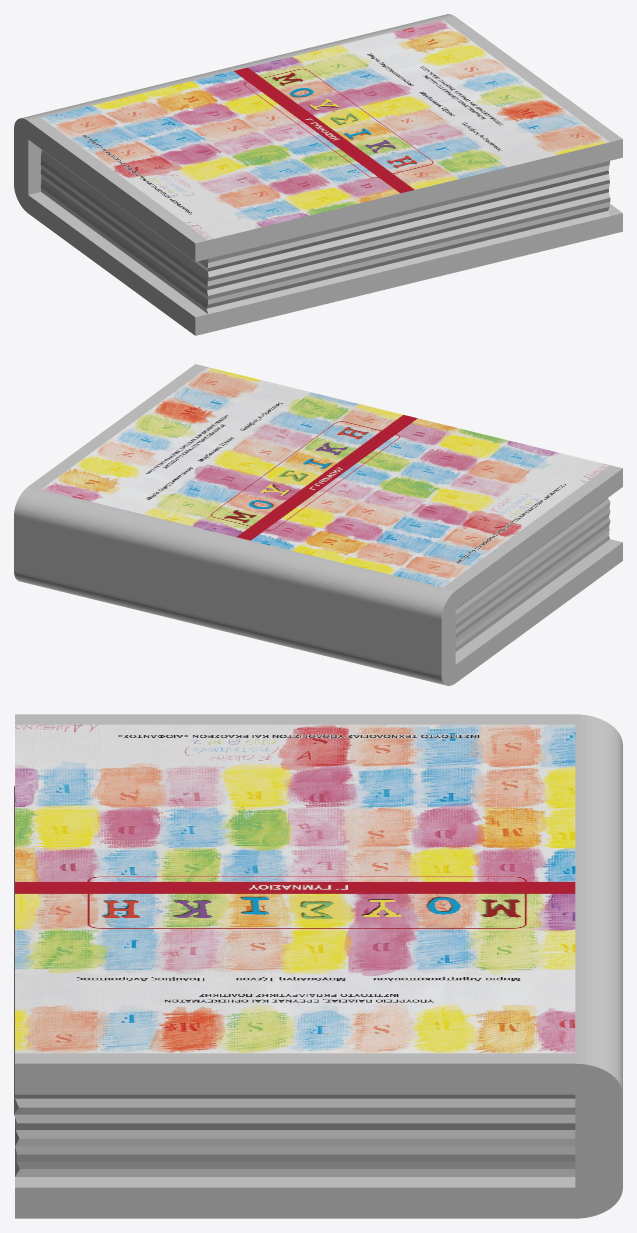
The model's file is book7.obj.
3 views of the same model, one above another, from view 1: azimuth 30°, elevation 25°; view 2: azimuth 150°, elevation 25°; view 3: azimuth 270°, elevation 25° (orthographic). The views are drawn at different scales.
Visible parts, largest first — view 1: Cube_3, Cube_1, Cube_2; view 2: Cube_3, Cube_1, Cube_2; view 3: Cube_3, Cube_1, Cube_2.
Boxes of the visible parts, x1=… form: Cube_3: x1=41, y1=20, x2=609, y2=240; Cube_1: x1=14, y1=14, x2=622, y2=335; Cube_2: x1=40, y1=150, x2=610, y2=314; Cube_3: x1=41, y1=367, x2=609, y2=587; Cube_1: x1=14, y1=364, x2=622, y2=685; Cube_2: x1=455, y1=498, x2=610, y2=651; Cube_3: x1=15, y1=724, x2=575, y2=1053; Cube_1: x1=15, y1=714, x2=622, y2=1218; Cube_2: x1=14, y1=786, x2=575, y2=1176.
Size of the model in its own units: 186 by 38.44 by 137.
3 materials, 1 textured.
